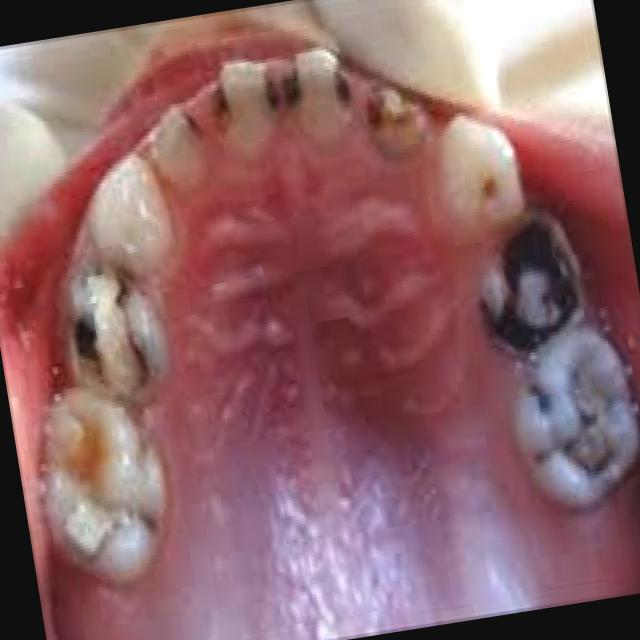caries: (44, 246, 194, 422), (527, 336, 640, 515), (458, 208, 596, 352)
